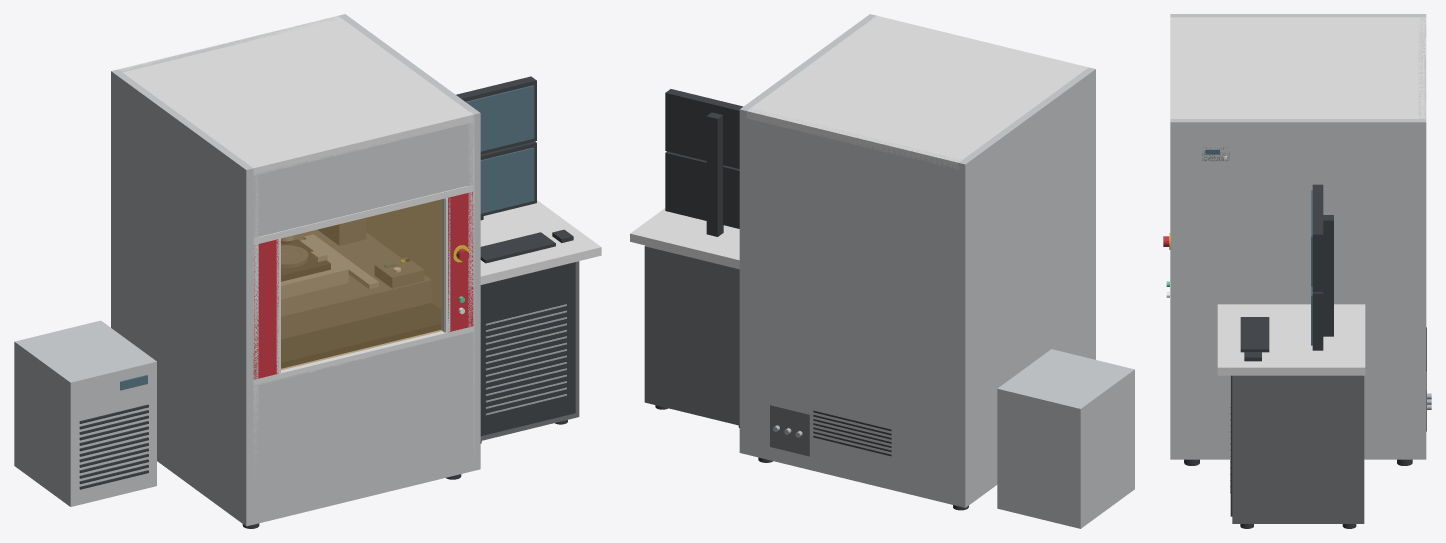
Rendered from mla150.gltf.
The picture shows the model from 3 angles, left to right: view 1: azimuth 30°, elevation 25°; view 2: azimuth 150°, elevation 25°; view 3: azimuth 270°, elevation 25°; orthographic projection. The views are drawn at different scales.
Parts seen in each view (by area): view 1: left_side, lower_fascia, roof, amber_glazing, chiller_shell, upper_fascia, rack_front, right_side, main_unit_plate, desktop, interior_floor, left_red_strip (+18 smaller); view 2: rear_panel, left_side, roof, chiller_shell, rack, monitor_1.5, right_side, desktop, monitor_1.17, monitor_column, rear_service_plate; view 3: right_side, roof, rack, desktop, monitor_column, monitor_1.5, keyboard, left_side, monitor_1.17, rear_panel, rack_front.
Boxes of the visible parts, bbox=[...] form: left_side: bbox=[111, 69, 253, 526]; lower_fascia: bbox=[253, 331, 473, 524]; roof: bbox=[119, 16, 473, 175]; amber_glazing: bbox=[281, 199, 441, 370]; chiller_shell: bbox=[14, 320, 156, 506]; upper_fascia: bbox=[253, 123, 473, 237]; rack_front: bbox=[480, 262, 575, 436]; right_side: bbox=[338, 14, 480, 470]; main_unit_plate: bbox=[281, 230, 431, 339]; desktop: bbox=[480, 200, 601, 284]; interior_floor: bbox=[281, 303, 441, 368]; left_red_strip: bbox=[253, 239, 278, 379]; rear_panel: bbox=[746, 109, 960, 506]; left_side: bbox=[958, 67, 1095, 507]; roof: bbox=[746, 15, 1088, 169]; chiller_shell: bbox=[997, 349, 1134, 528]; rack: bbox=[644, 245, 739, 425]; monitor_1.5: bbox=[665, 89, 743, 168]; right_side: bbox=[739, 14, 876, 454]; desktop: bbox=[630, 208, 739, 268]; monitor_1.17: bbox=[665, 151, 739, 228]; monitor_column: bbox=[706, 112, 723, 236]; rear_service_plate: bbox=[770, 405, 809, 456]; right_side: bbox=[1170, 119, 1426, 459]; roof: bbox=[1170, 17, 1426, 118]; rack: bbox=[1232, 375, 1364, 523]; desktop: bbox=[1217, 304, 1365, 375]; monitor_column: bbox=[1323, 215, 1333, 336]; monitor_1.5: bbox=[1312, 184, 1323, 291]; keyboard: bbox=[1240, 317, 1269, 352]; left_side: bbox=[1170, 14, 1426, 17]; monitor_1.17: bbox=[1312, 292, 1323, 350]; rear_panel: bbox=[1418, 18, 1426, 118]; rack_front: bbox=[1230, 375, 1232, 516].
Size of the model in its own units: 2.71 by 1.95 by 1.36.
